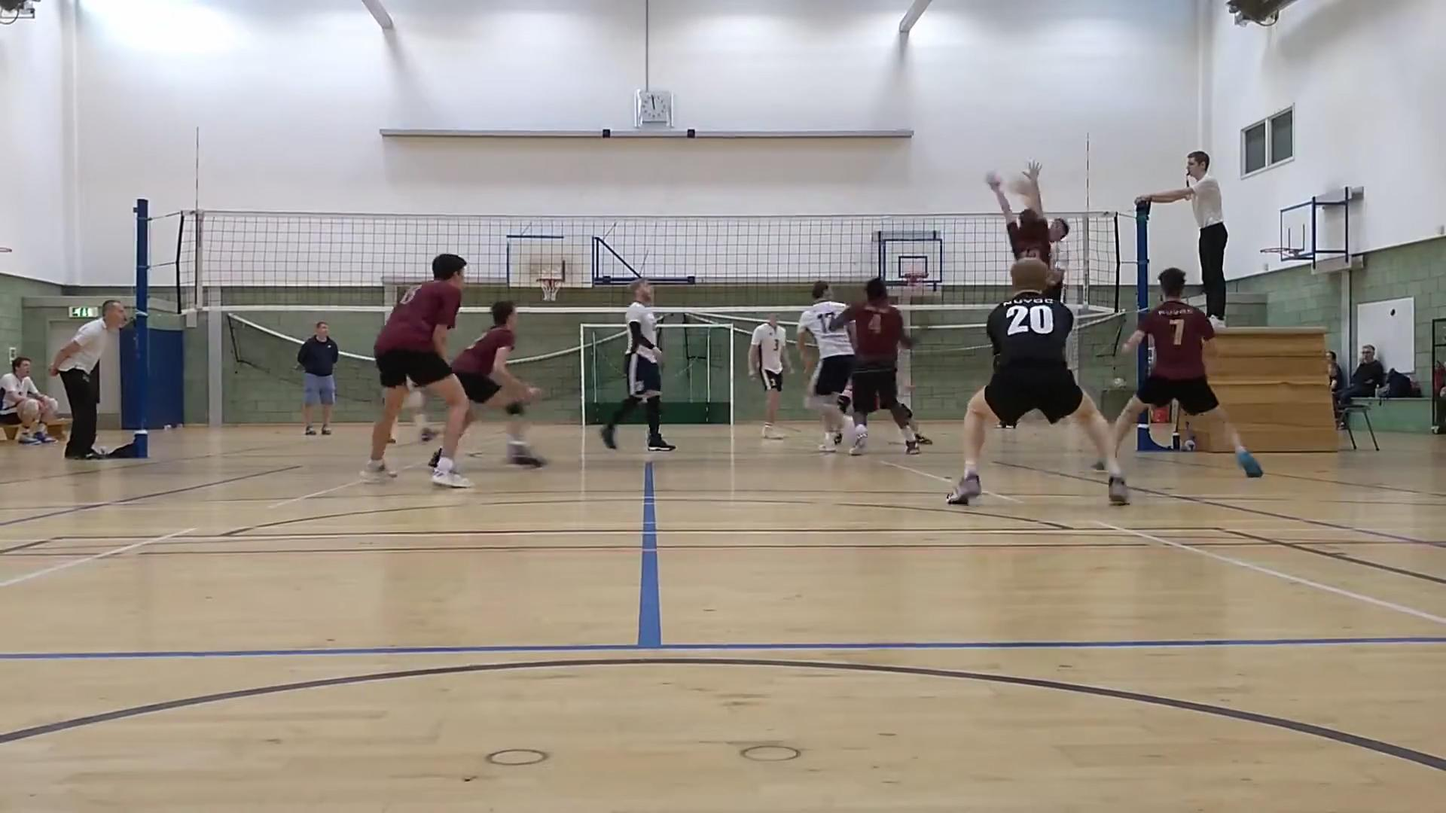Attack: (1040, 209, 1078, 300)
Block: (990, 173, 1063, 300)
Player: (948, 258, 1128, 504), (1113, 267, 1261, 477), (362, 254, 471, 487), (830, 278, 919, 454), (452, 301, 545, 467), (601, 279, 675, 451), (796, 281, 854, 452), (749, 314, 791, 439), (404, 385, 436, 441), (901, 401, 932, 445)
